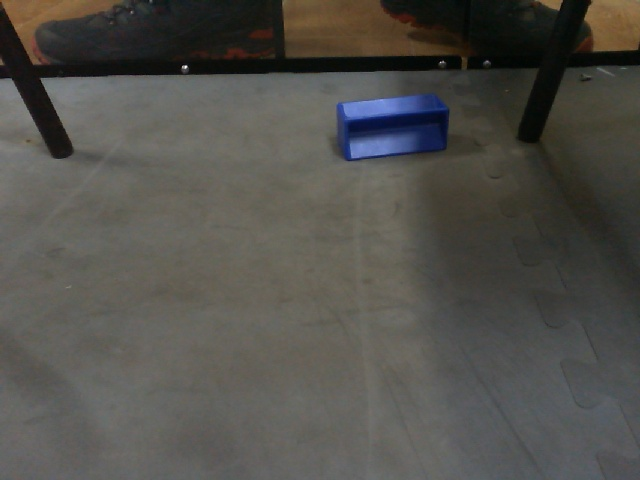BlueSample: (332, 91, 452, 163)
